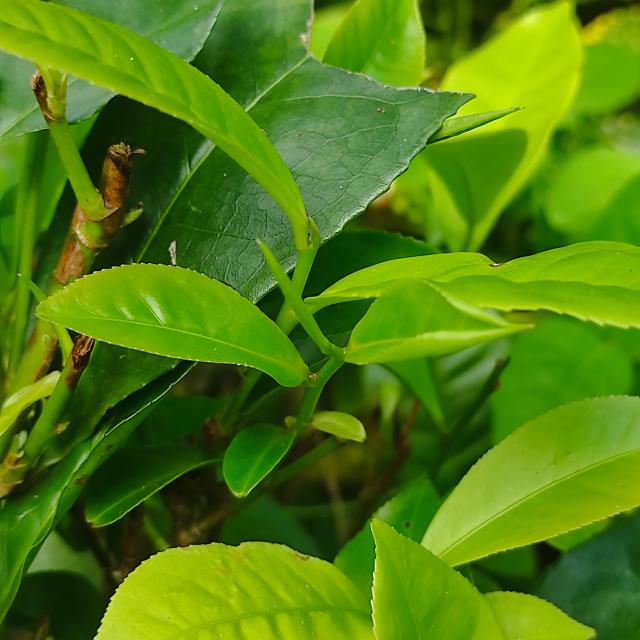unopened_leaf: (242, 226, 350, 363), (11, 264, 75, 365), (422, 101, 534, 150), (453, 154, 482, 258)
